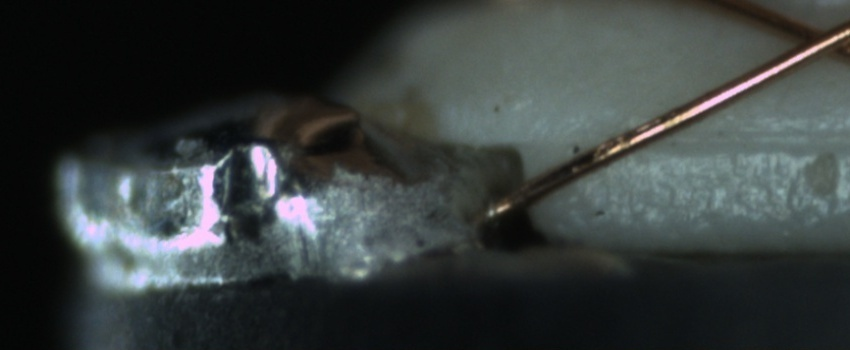CL: (773, 9, 850, 67)
DL: (643, 102, 845, 177)
